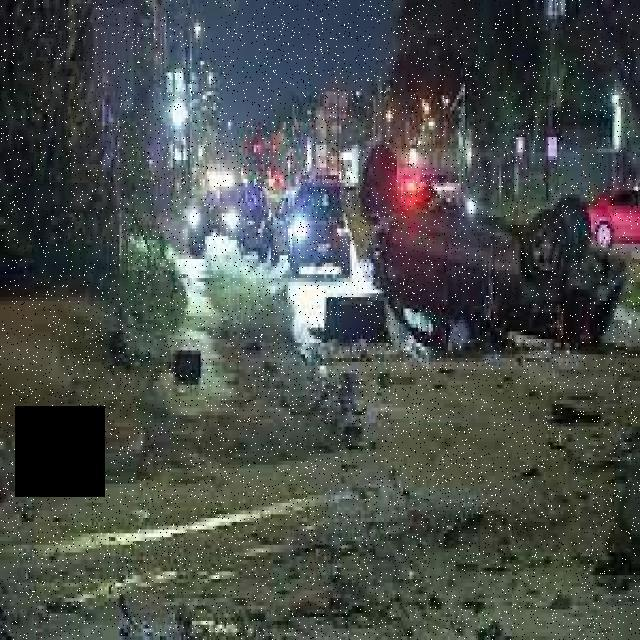severe: (337, 126, 627, 370)
